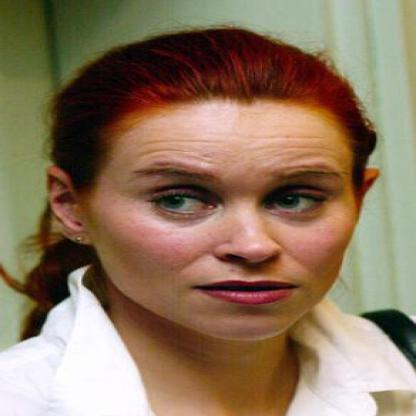face: (88, 60, 364, 347)
